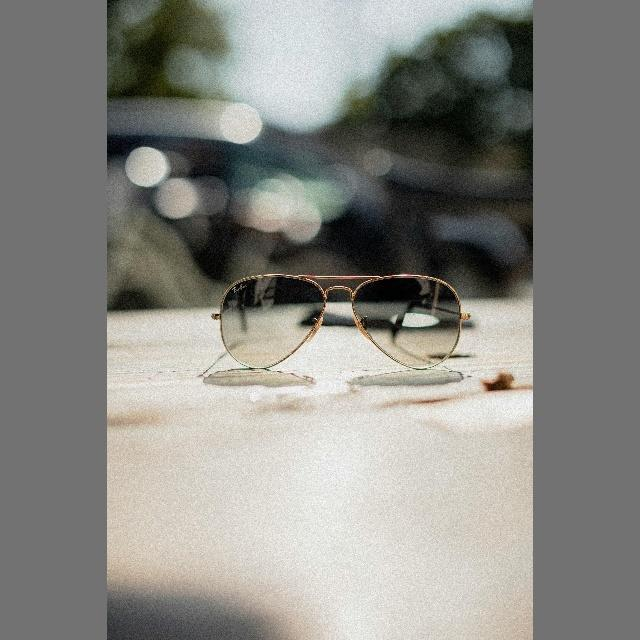Sunglasses: (194, 276, 468, 376)
